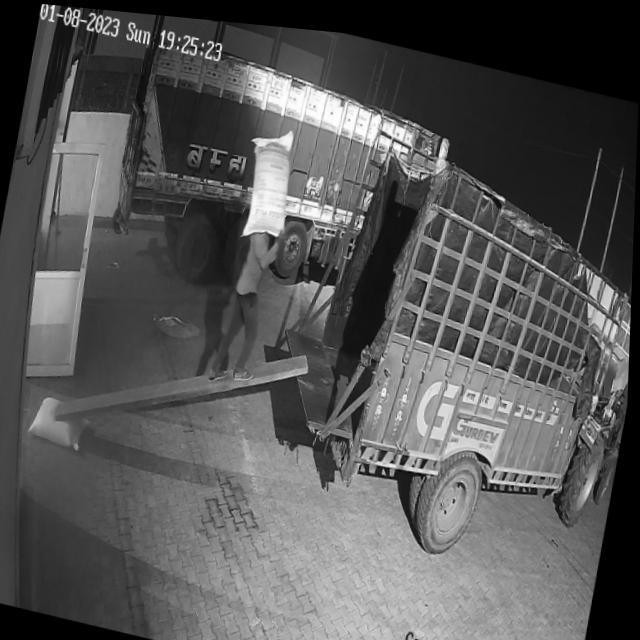sack: (237, 117, 300, 240), (30, 391, 95, 451)
